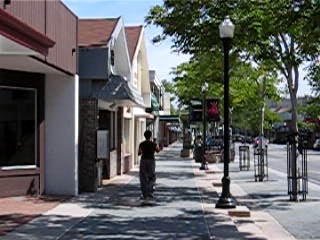person: (137, 131, 160, 200), (136, 131, 159, 200), (138, 131, 161, 200), (137, 130, 160, 199), (137, 132, 160, 201)
target_negative: (222, 4, 318, 203), (212, 5, 268, 229), (203, 7, 251, 228), (30, 109, 72, 239), (309, 150, 316, 221), (210, 205, 243, 210)
